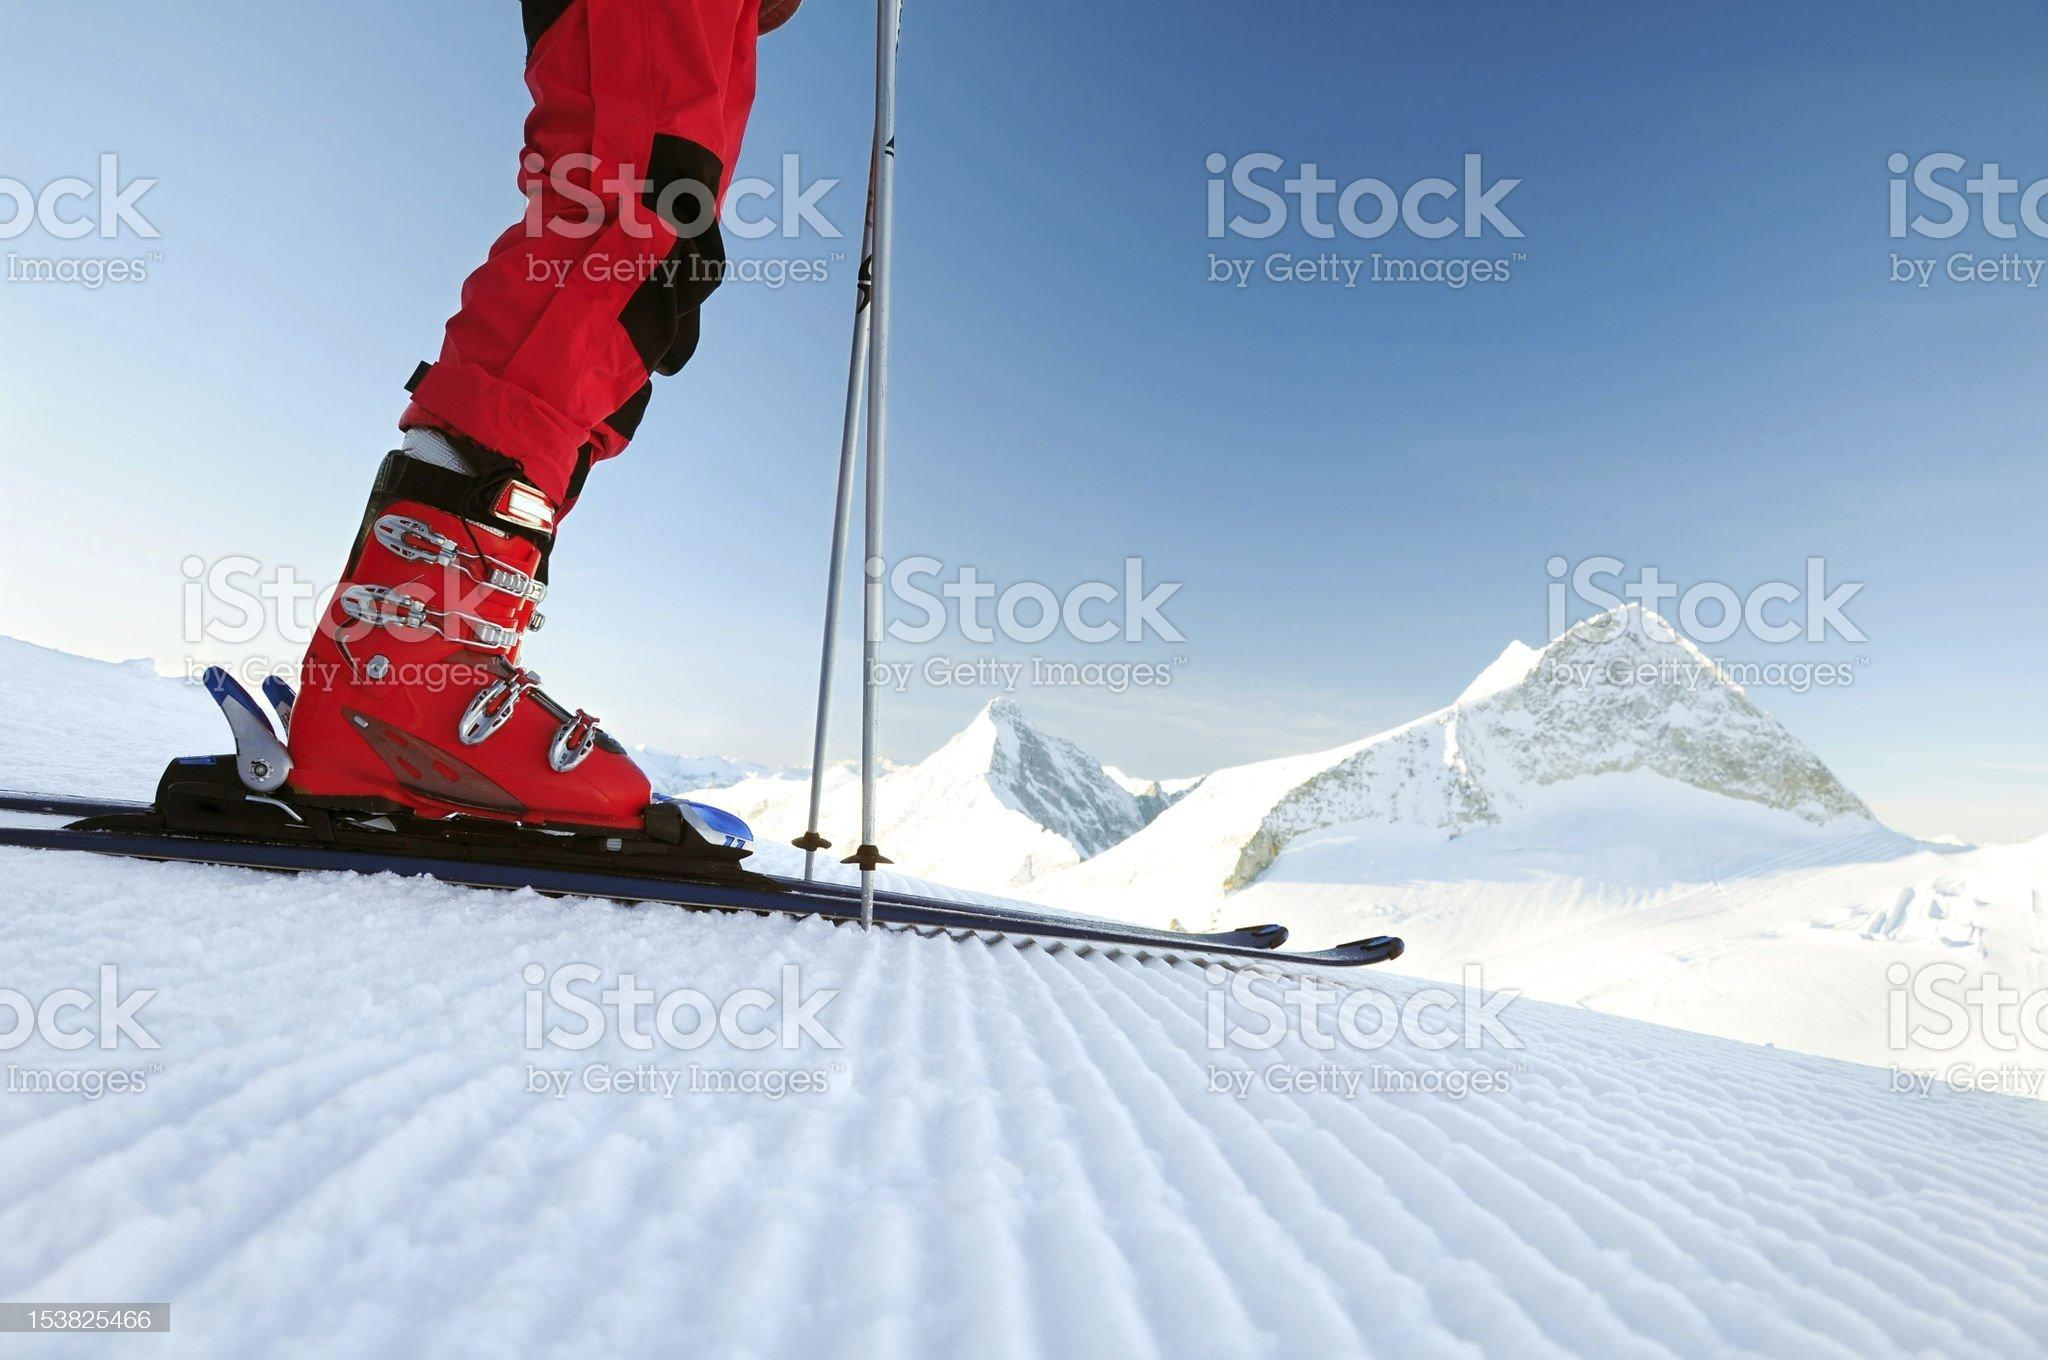Skis: (0, 577, 1415, 1037)
